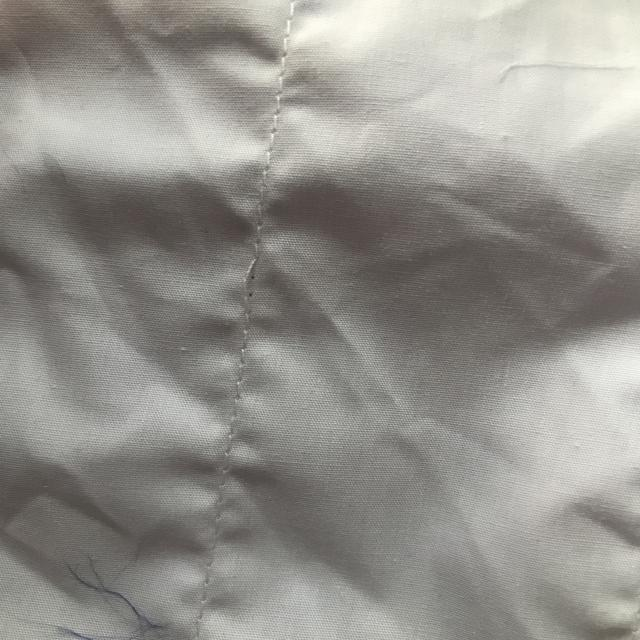skip: (224, 247, 273, 321)
